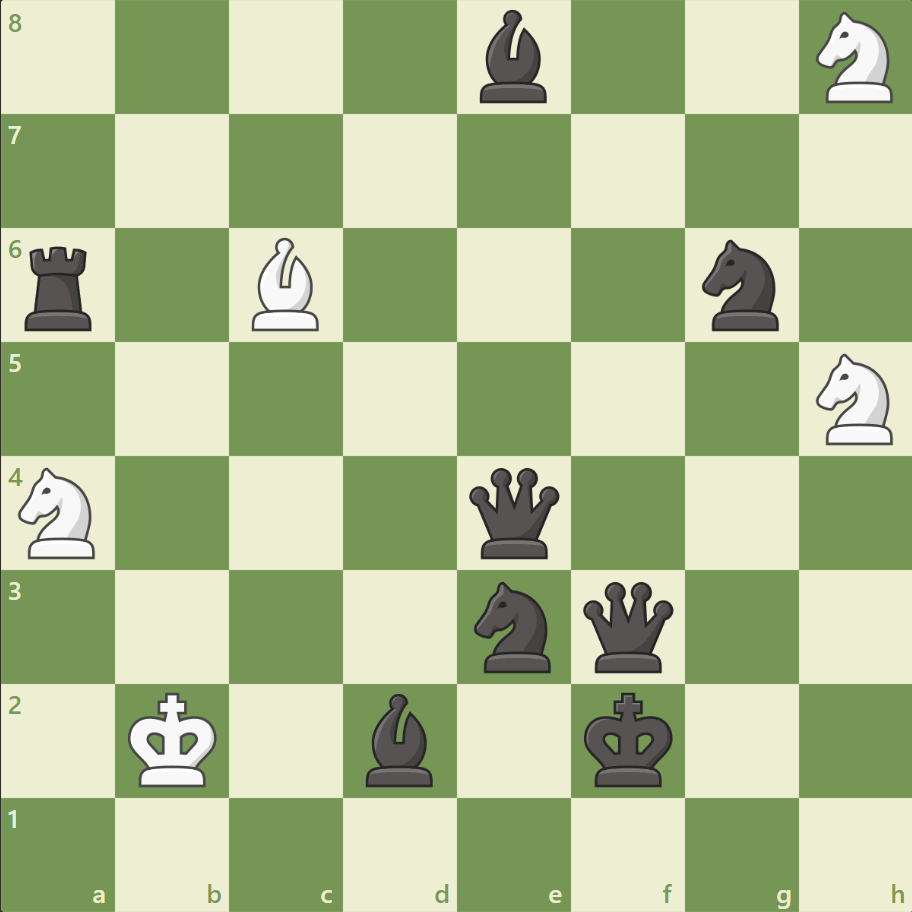B: (244, 233, 328, 336)
K: (124, 685, 224, 793)
N: (806, 7, 903, 110), (11, 461, 108, 564), (806, 348, 903, 450)
b: (471, 6, 555, 109), (358, 687, 442, 790)
k: (579, 685, 679, 793)
n: (692, 234, 789, 337), (465, 575, 562, 677)
q: (578, 576, 677, 676), (464, 463, 563, 562)
r: (19, 239, 102, 336)
